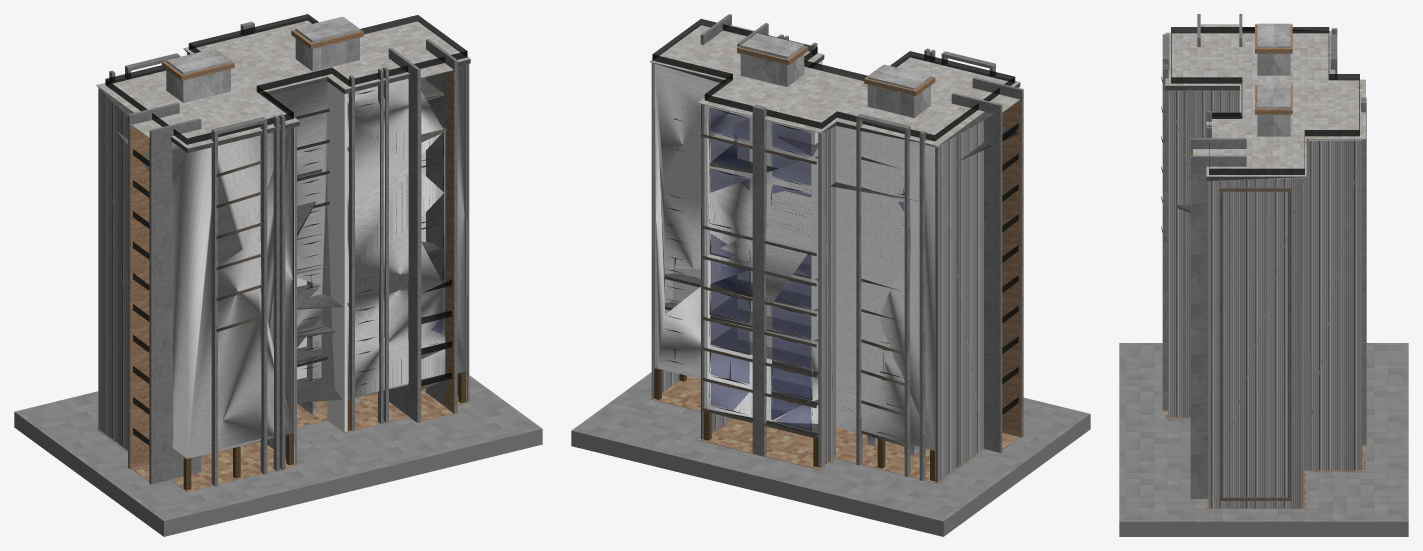
The model's file is toa-nha-1.glb.
The picture shows the model from 3 angles, left to right: view 1: azimuth 30°, elevation 25°; view 2: azimuth 150°, elevation 25°; view 3: azimuth 270°, elevation 25°; orthographic projection. The views are drawn at different scales.
Visible parts, largest first — view 1: Line001_18 - Rubber_0, Box001_04 - Default_0, Box023_01 - Default_0, Box022_05 - Default_0, Shape012_16 - Matte Plastic_0, Box037_03 - Default_0, Box176_Ceramic_0, Line005_14 - Polished Aluminum_0, Box291_12 - Car Paint_0, Shape001_06 - Default_0, Shape013_02 - Default_0, Box027_Solid Glass_0 (+2 smaller); view 2: Line001_18 - Rubber_0, Box037_03 - Default_0, Box001_04 - Default_0, Box023_01 - Default_0, Box022_05 - Default_0, Shape012_16 - Matte Plastic_0, Box181_11 - Default_0, Shape001_06 - Default_0, Box176_Ceramic_0, Shape013_02 - Default_0, Line005_14 - Polished Aluminum_0, Box291_12 - Car Paint_0 (+3 smaller); view 3: Box037_03 - Default_0, Box023_01 - Default_0, Shape012_16 - Matte Plastic_0, Box001_04 - Default_0, Box022_05 - Default_0, Box291_12 - Car Paint_0, Box027_Solid Glass_0, Line005_14 - Polished Aluminum_0, Shape001_06 - Default_0, Box293_13 - Brushed Metal #2_0, Shape013_02 - Default_0.
Part boxes in pixels (x1,y1,x2,y2): Line001_18 - Rubber_0: [172, 65, 466, 458]; Box001_04 - Default_0: [109, 21, 457, 486]; Box023_01 - Default_0: [14, 375, 542, 522]; Box022_05 - Default_0: [14, 81, 542, 536]; Shape012_16 - Matte Plastic_0: [96, 18, 470, 148]; Box037_03 - Default_0: [98, 53, 469, 464]; Box176_Ceramic_0: [130, 71, 454, 482]; Line005_14 - Polished Aluminum_0: [105, 14, 467, 445]; Box291_12 - Car Paint_0: [166, 16, 359, 414]; Shape001_06 - Default_0: [97, 50, 470, 390]; Shape013_02 - Default_0: [96, 388, 470, 491]; Box027_Solid Glass_0: [216, 108, 329, 366]; Line001_18 - Rubber_0: [654, 64, 934, 449]; Box037_03 - Default_0: [651, 63, 983, 481]; Box001_04 - Default_0: [700, 14, 1023, 480]; Box023_01 - Default_0: [571, 372, 1090, 522]; Box022_05 - Default_0: [571, 60, 1090, 536]; Shape012_16 - Matte Plastic_0: [649, 25, 1020, 146]; Box181_11 - Default_0: [710, 109, 904, 429]; Shape001_06 - Default_0: [652, 55, 1020, 435]; Box176_Ceramic_0: [1002, 102, 1021, 437]; Shape013_02 - Default_0: [650, 375, 1019, 483]; Line005_14 - Polished Aluminum_0: [652, 19, 1018, 414]; Box291_12 - Car Paint_0: [740, 33, 930, 455]; Box037_03 - Default_0: [1168, 90, 1362, 508]; Box023_01 - Default_0: [1119, 343, 1408, 522]; Shape012_16 - Matte Plastic_0: [1165, 24, 1365, 176]; Box001_04 - Default_0: [1162, 14, 1366, 498]; Box022_05 - Default_0: [1119, 523, 1408, 536]; Box291_12 - Car Paint_0: [1257, 23, 1290, 136]; Box027_Solid Glass_0: [1161, 76, 1291, 500]; Line005_14 - Polished Aluminum_0: [1171, 27, 1359, 174]; Shape001_06 - Default_0: [1165, 27, 1307, 473]; Box293_13 - Brushed Metal #2_0: [1255, 24, 1292, 114]; Shape013_02 - Default_0: [1165, 410, 1365, 508].
Size of the model in its own units: 1 by 0.985 by 0.6843.
Materials: 15 (15 with a texture image).
